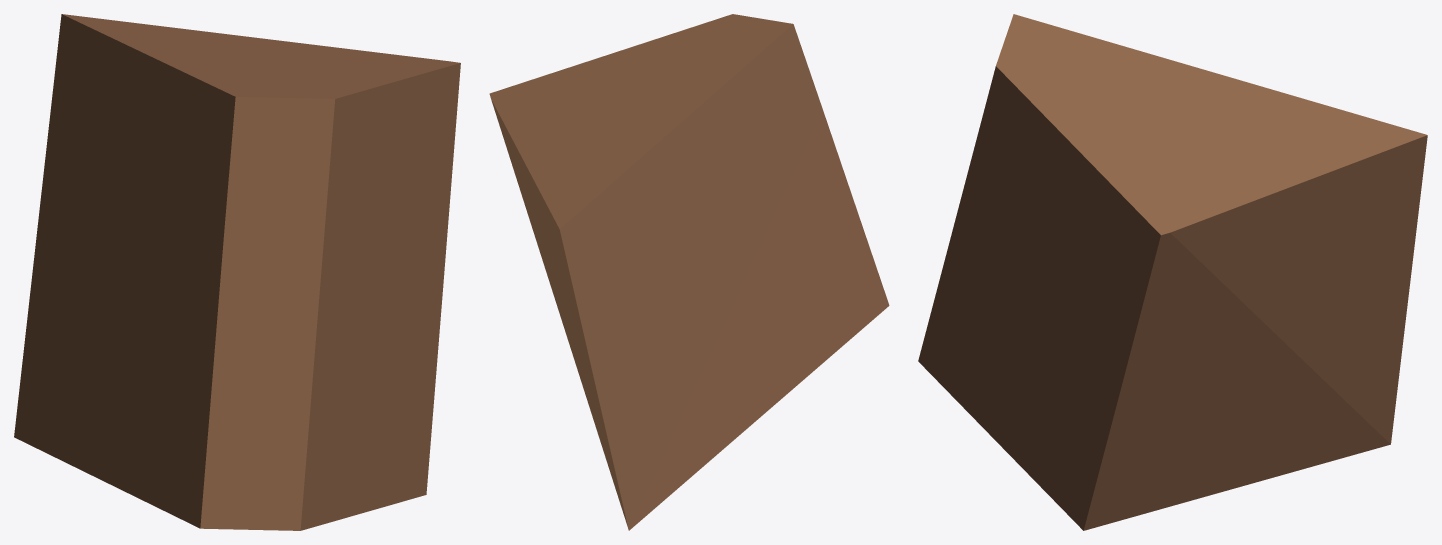
File: WoodCellCube_003_cell_038.fbx
3 renders of one model, left to right at view 1: azimuth 30°, elevation 25°; view 2: azimuth 150°, elevation 25°; view 3: azimuth 270°, elevation 25°, orthographic. The views are drawn at different scales.
Parts seen in each view (by area): view 1: WoodCellCube_003_cell_038; view 2: WoodCellCube_003_cell_038; view 3: WoodCellCube_003_cell_038.
Boxes of the visible parts, bbox=[...] form: WoodCellCube_003_cell_038: bbox=[14, 14, 460, 530]; WoodCellCube_003_cell_038: bbox=[489, 14, 889, 530]; WoodCellCube_003_cell_038: bbox=[918, 14, 1427, 530].
Bounding box in the file's own units: 0.2546 × 0.2382 × 0.195.
1 material, 1 textured.
